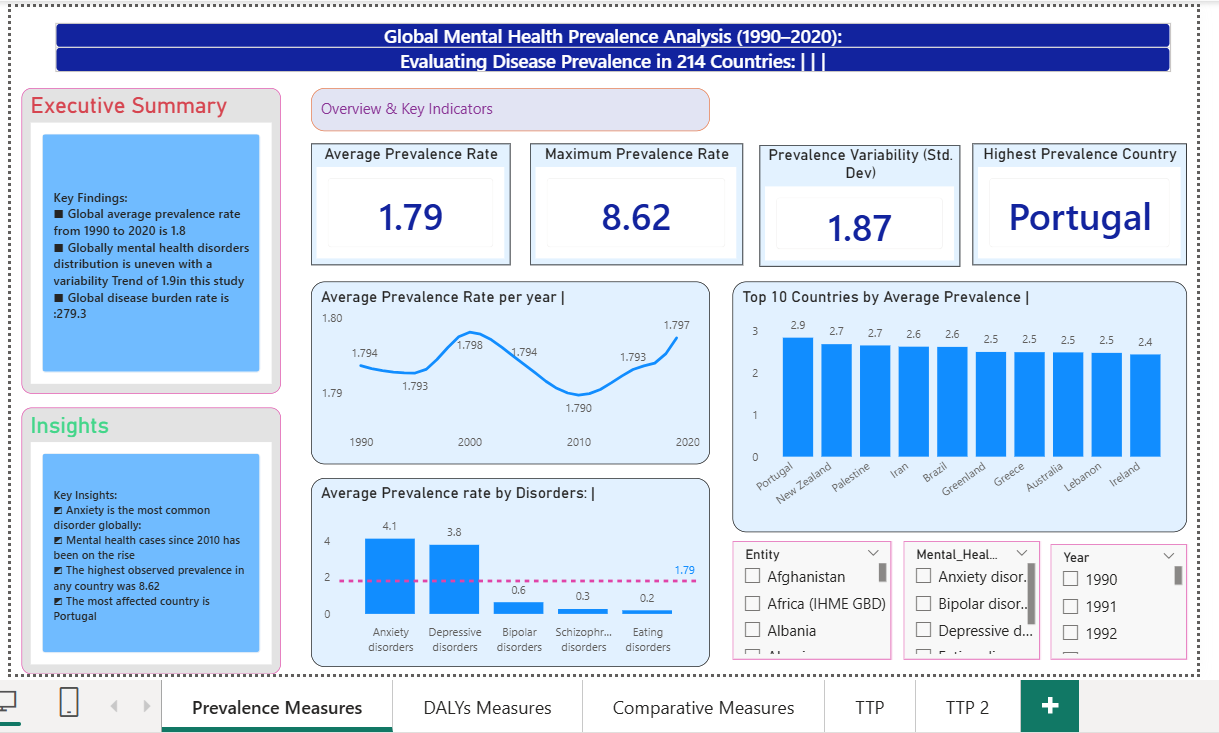

What the dashboard file says about the page in this screenshot:
{"tool":"powerbi","page":{"name":"Prevalence Measures","canvas":[1280,720],"ordinal":0},"visuals":[{"type":"cardVisual","title":"Average Prevalence Rate","fields":{"Data":["Measures Table.m_AVerage Disorder Rate"]},"box":[323.8,147.3,215.4,131.2],"z":0},{"type":"lineChart","fields":{"Y":["Measures Table.m_AVerage Prevalence Rate"],"Category":["DIM_YEAR.Year"]},"box":[323.8,296.3,430.7,197.5],"z":1000},{"type":"clusteredColumnChart","fields":{"Y":["Measures Table.m_AVerage Prevalence Rate"],"Category":["DIM_COUNTRIES.Entity"]},"box":[778.8,296.3,490.6,270.4],"z":2000},{"type":"clusteredColumnChart","fields":{"Y":["Measures Table.m_AVerage Prevalence Rate"],"Category":["DIM_DISORDERS.Mental_Health_Disorders"]},"box":[323.8,508.4,430.7,204],"z":3000},{"type":"cardVisual","title":"Highest Prevalence Country","fields":{"Data":["Measures Table.Top Country Prevalence"]},"box":[1037.9,147.3,231.5,131.2],"z":4000},{"type":"cardVisual","title":"Prevalence Variability  (Std. Dev)","fields":{"Data":["Measures Table.Variablity Trend"]},"box":[808,149,217,131.2],"z":5000},{"type":"cardVisual","title":"Maximum Prevalence Rate","fields":{"Data":["Measures Table.m_Max Prevalence"]},"box":[560.3,147.3,229.9,131.2],"z":6000},{"type":"cardVisual","title":"Executive Summary","fields":{"Data":["Measures Table.m_EXECUTIVE SUMMARY"]},"box":[11.3,87.4,280.1,330.3],"z":7000},{"type":"textbox","box":[323.8,87.4,430.7,47],"z":8000},{"type":"cardVisual","title":"Insights ","fields":{"Data":["Measures Table.m_Executive Summary"]},"box":[11.3,432.3,280.1,288.2],"z":9000},{"type":"slicer","fields":{"Values":["DIM_COUNTRIES.Entity"]},"box":[778.8,576.4,171.6,127.9],"z":10000},{"type":"slicer","fields":{"Values":["DIM_YEAR.Year"]},"box":[1122.1,579.7,147.3,124.7],"z":11000},{"type":"slicer","fields":{"Values":["DIM_DISORDERS.Mental_Health_Disorders"]},"box":[963.4,576.4,147.3,127.9],"z":12000},{"type":"cardVisual","fields":{"Data":["Measures Table.dt_Main Title","Measures Table.dt_sMain T"]},"box":[30.8,0,1238.7,87.4],"z":13000}]}

Visuals, with their boxes on the page's 1280x720 design canvas (x1, y1, x2, y2). These are canvas units, not pixel positions in the 1219x733 screenshot, which may show the page scaled, cropped or inside an application window:
"Average Prevalence Rate" cardVisual: (324, 147, 539, 278)
lineChart - Measures Table.m_AVerage Prevalence Rate x DIM_YEAR.Year: (324, 296, 754, 494)
clusteredColumnChart - Measures Table.m_AVerage Prevalence Rate x DIM_COUNTRIES.Entity: (779, 296, 1269, 567)
clusteredColumnChart - Measures Table.m_AVerage Prevalence Rate x DIM_DISORDERS.Mental_Health_Disorders: (324, 508, 754, 712)
"Highest Prevalence Country" cardVisual: (1038, 147, 1269, 278)
"Prevalence Variability  (Std. Dev)" cardVisual: (808, 149, 1025, 280)
"Maximum Prevalence Rate" cardVisual: (560, 147, 790, 278)
"Executive Summary" cardVisual: (11, 87, 291, 418)
textbox: (324, 87, 754, 134)
"Insights " cardVisual: (11, 432, 291, 720)
slicer - DIM_COUNTRIES.Entity: (779, 576, 950, 704)
slicer - DIM_YEAR.Year: (1122, 580, 1269, 704)
slicer - DIM_DISORDERS.Mental_Health_Disorders: (963, 576, 1111, 704)
cardVisual - Measures Table.dt_Main Title x Measures Table.dt_sMain T: (31, 0, 1270, 87)
